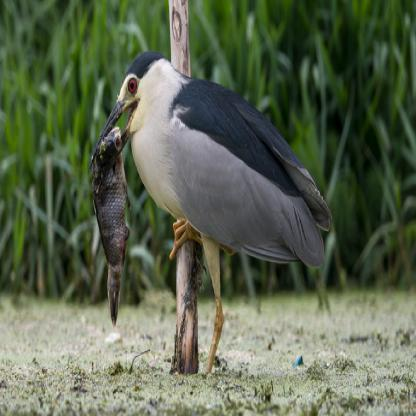Burung: (95, 51, 329, 372)
